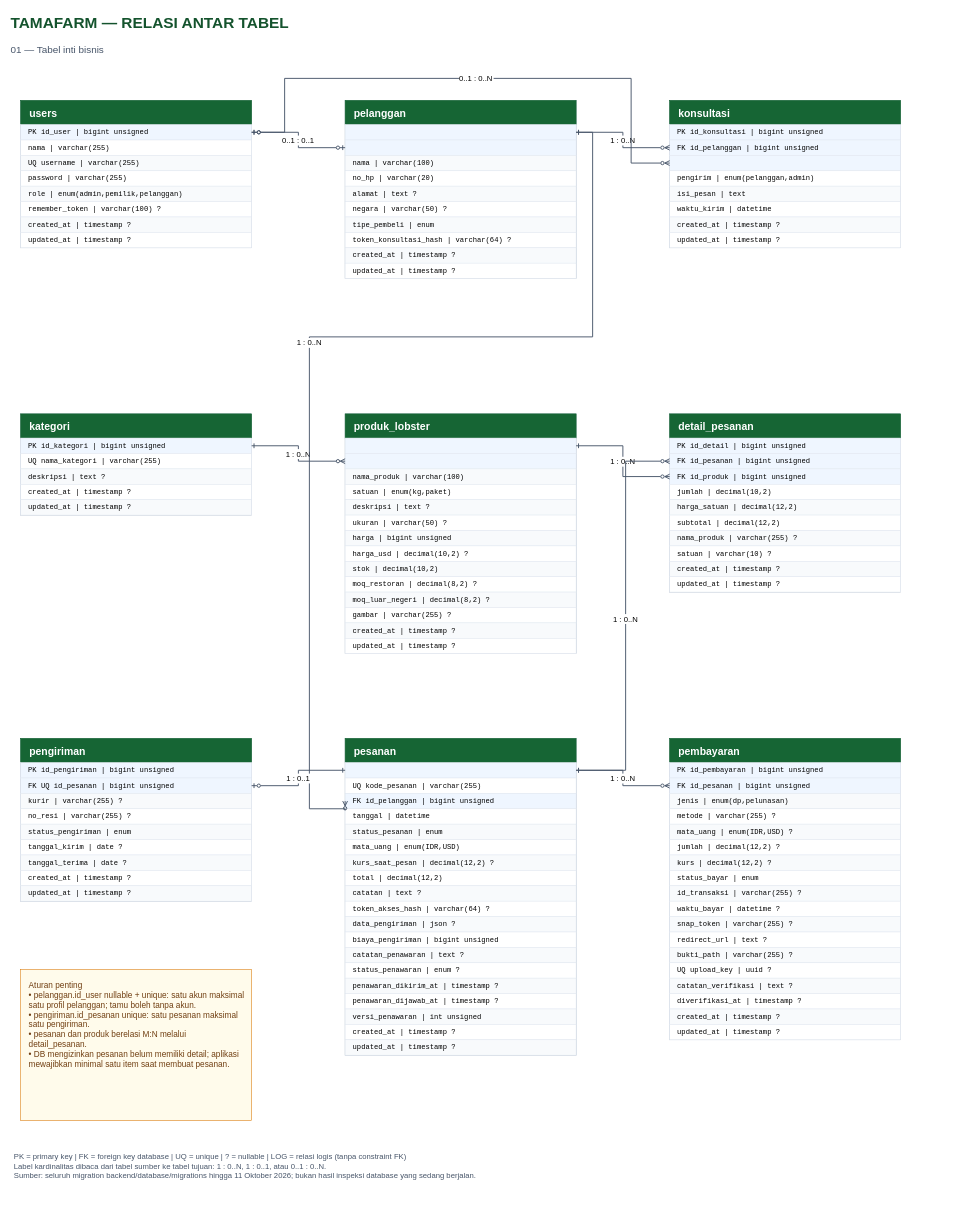
Image size: 965x1218. Some labels were removed from this diagram. Each missing label, with the box of its shape:
FK id_kategori | bigint unsigned: (345, 453, 576, 469)
FK id_user | bigint unsigned ?: (669, 155, 901, 171)
FK UQ id_user | bigint unsigned ?: (345, 139, 576, 155)
PK id_pelanggan | bigint unsigned: (345, 124, 576, 140)
PK id_pesanan | bigint unsigned: (345, 762, 576, 778)
PK id_produk | bigint unsigned: (345, 438, 576, 453)
